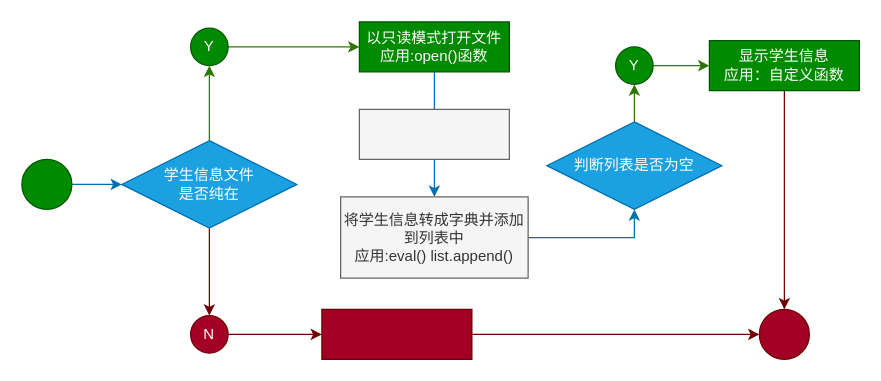
Image size: 881x381. Some labels were removed from this diagram. Each missing label, with the box of its shape:
开始: (21, 158, 72, 209)
提示暂未保存文件 应用:print()函数: (321, 308, 472, 359)
结束: (758, 308, 809, 359)
读取全部信息到列表 应用:file.readlines: (358, 108, 509, 159)
